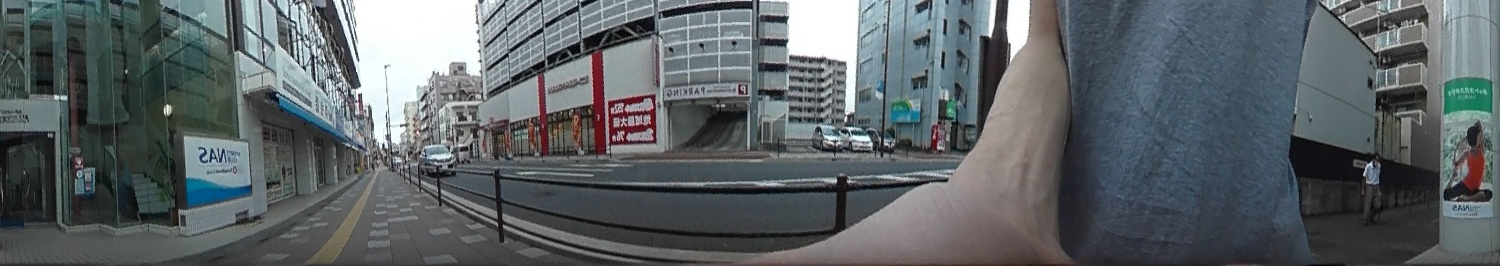person: (1358, 149, 1386, 228)
